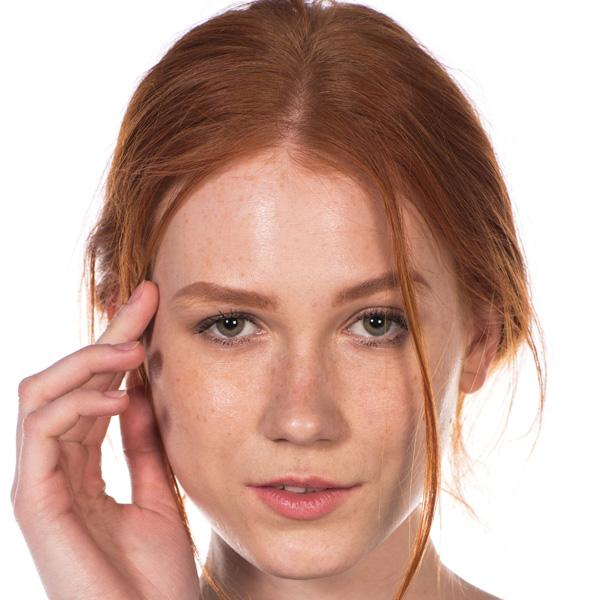Eyes: (185, 301, 276, 358), (332, 300, 421, 352)
